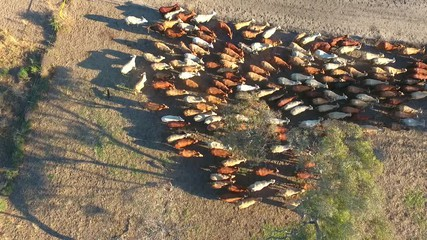sheep: (270, 139, 311, 158), (336, 64, 368, 88), (226, 192, 261, 212), (256, 163, 291, 183), (118, 48, 138, 80), (228, 78, 265, 95), (184, 8, 217, 27), (219, 153, 253, 171), (165, 128, 203, 143), (349, 39, 378, 58), (166, 136, 202, 151), (218, 49, 241, 72), (372, 82, 399, 101), (309, 56, 336, 75), (155, 113, 189, 128), (370, 56, 404, 71), (158, 14, 186, 32), (298, 114, 326, 132), (284, 48, 307, 69), (204, 143, 234, 159), (314, 99, 340, 117), (174, 148, 205, 163), (145, 99, 174, 115), (313, 88, 346, 102), (160, 3, 185, 21), (194, 107, 220, 124), (181, 33, 202, 54), (276, 98, 311, 110), (207, 167, 230, 185), (201, 87, 235, 99), (215, 74, 241, 89), (336, 102, 366, 115), (272, 91, 296, 107), (178, 99, 204, 113), (291, 25, 310, 44), (246, 178, 276, 190), (168, 84, 198, 96), (243, 17, 259, 39), (255, 84, 281, 97), (270, 53, 286, 74), (155, 57, 183, 69), (326, 35, 351, 48), (390, 38, 409, 55), (286, 104, 309, 118), (355, 85, 378, 99), (140, 51, 161, 66), (133, 71, 147, 93), (257, 58, 271, 79), (262, 24, 276, 43), (301, 32, 320, 46), (388, 63, 405, 78), (123, 14, 145, 25), (356, 94, 377, 103), (190, 53, 207, 63)
